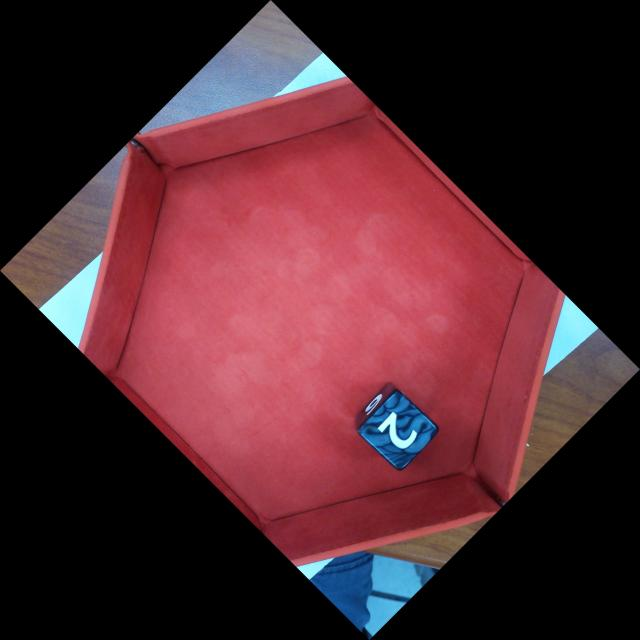dice: (359, 386, 439, 468)
